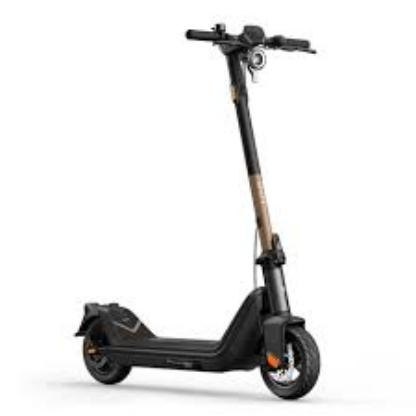bike: (74, 14, 323, 402)
